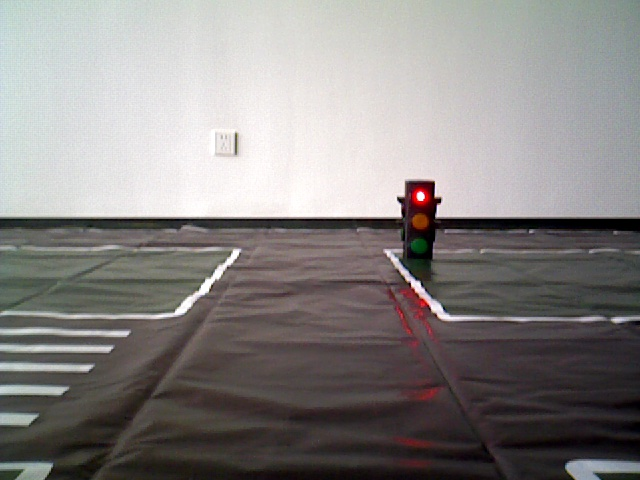red: (405, 184, 434, 258)
